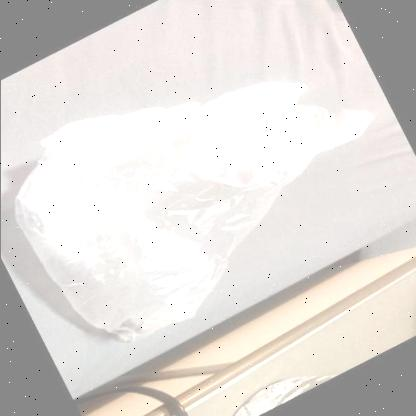Others: (13, 81, 367, 345)
